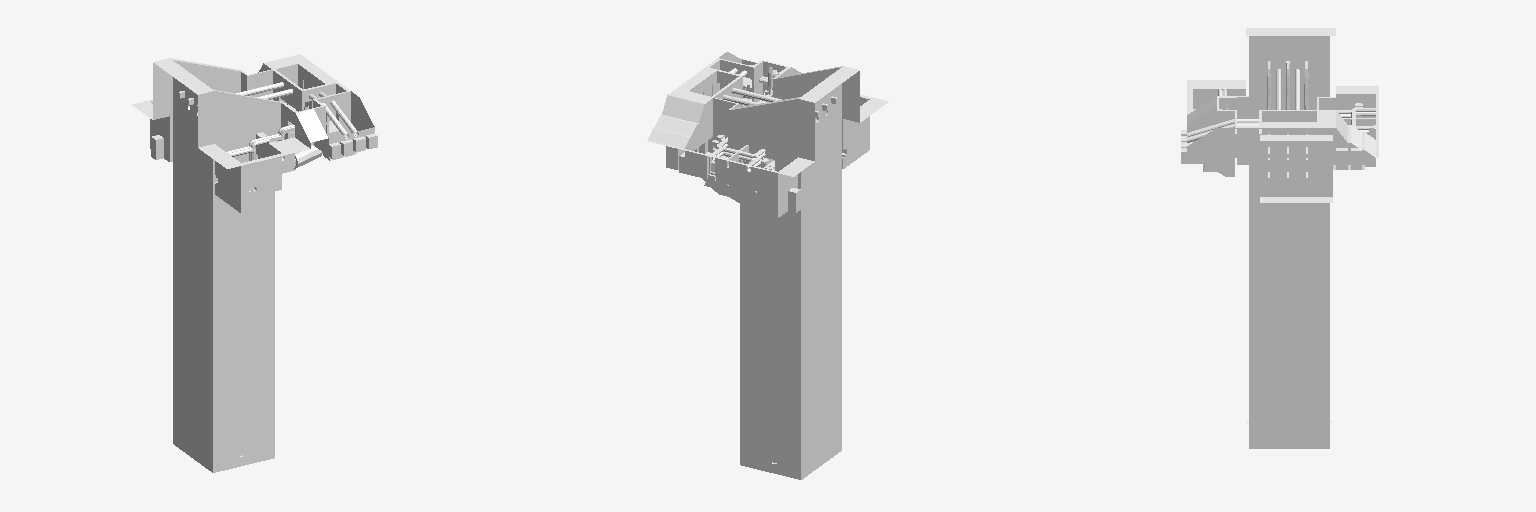
Rendered from damnation.obj.
3 views of the same model, side by side, from view 1: azimuth 30°, elevation 25°; view 2: azimuth 150°, elevation 25°; view 3: azimuth 270°, elevation 25° (orthographic).
Parts seen in each view (by area): view 1: -000, -002, -001, -004; view 2: -000, -002, -001, -004, -007, -006; view 3: -000, -009, -002, -008, -001, -007, -012, -004.
Part boxes in pixels (left/top/right/bottom): -000: left=132, top=54, right=374, bottom=472; -002: left=198, top=91, right=377, bottom=213; -001: left=178, top=68, right=326, bottom=465; -004: left=150, top=116, right=172, bottom=159; -000: left=647, top=52, right=859, bottom=479; -002: left=742, top=59, right=888, bottom=168; -001: left=693, top=68, right=837, bottom=471; -004: left=727, top=150, right=800, bottom=212; -007: left=679, top=128, right=746, bottom=195; -006: left=685, top=134, right=773, bottom=171; -000: left=1187, top=28, right=1378, bottom=448; -009: left=1260, top=134, right=1332, bottom=202; -002: left=1181, top=80, right=1245, bottom=176; -008: left=1268, top=203, right=1307, bottom=448; -001: left=1237, top=58, right=1307, bottom=178; -007: left=1333, top=148, right=1375, bottom=169; -012: left=1246, top=53, right=1332, bottom=422; -004: left=1336, top=94, right=1375, bottom=117.
Size of the model in its own units: 71.05 by 173 by 80.96.